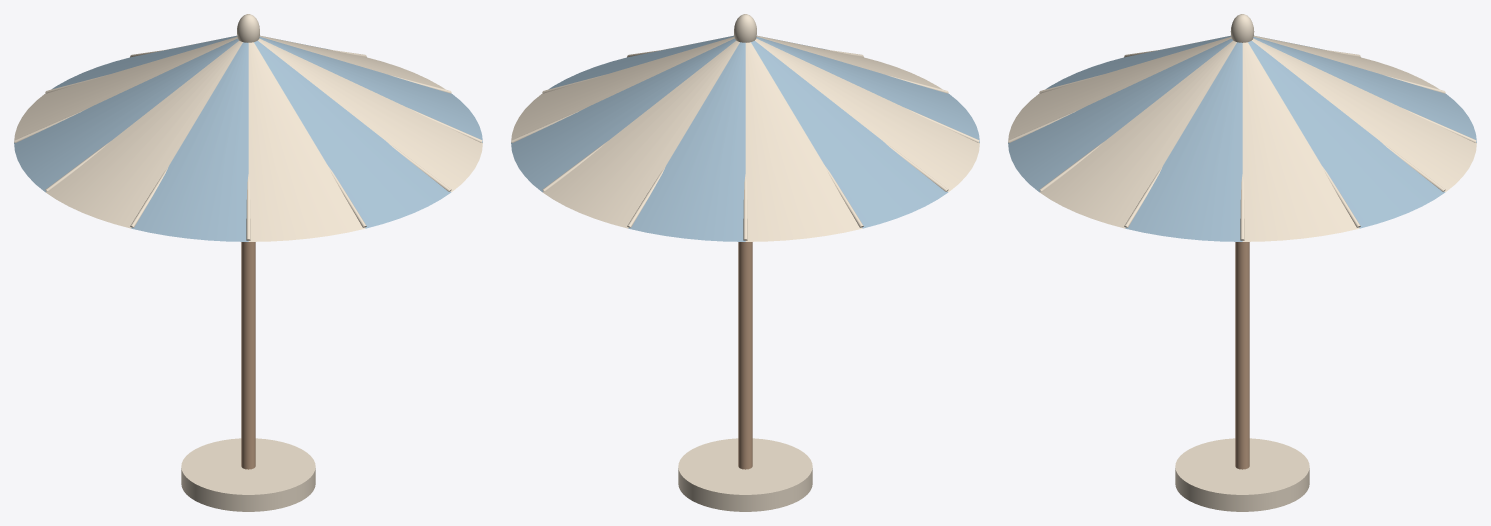
Rendered from umbrellaBlue.glb.
The picture shows the model from 3 angles, left to right: view 1: azimuth 30°, elevation 25°; view 2: azimuth 150°, elevation 25°; view 3: azimuth 270°, elevation 25°; orthographic projection.
Parts seen in each view (by area): view 1: canopy stripe (×10), circular moulding, umbrella pole, canopy cap; view 2: canopy stripe (×10), circular moulding, umbrella pole, canopy cap; view 3: canopy stripe (×10), circular moulding, umbrella pole, canopy cap.
Part boxes in pixels (x1=…): canopy stripe (×10): x1=14, y1=35, x2=482, y2=241; circular moulding: x1=181, y1=438, x2=315, y2=511; umbrella pole: x1=241, y1=242, x2=255, y2=469; canopy cap: x1=237, y1=14, x2=259, y2=42; canopy stripe (×10): x1=511, y1=35, x2=979, y2=241; circular moulding: x1=678, y1=438, x2=812, y2=511; umbrella pole: x1=738, y1=242, x2=752, y2=469; canopy cap: x1=734, y1=14, x2=756, y2=42; canopy stripe (×10): x1=1008, y1=35, x2=1476, y2=241; circular moulding: x1=1175, y1=438, x2=1309, y2=511; umbrella pole: x1=1235, y1=242, x2=1249, y2=469; canopy cap: x1=1230, y1=14, x2=1254, y2=42.
Bounding box in the file's own units: 3 × 3.31 × 3.
